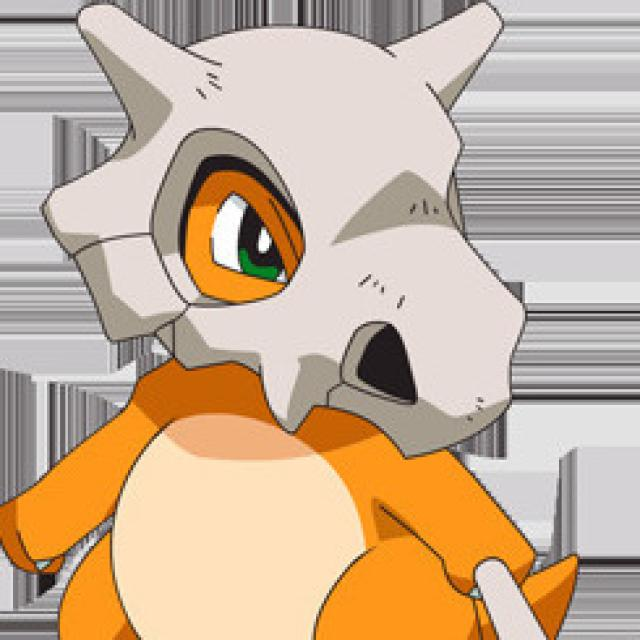Cubone: (12, 4, 580, 640)
